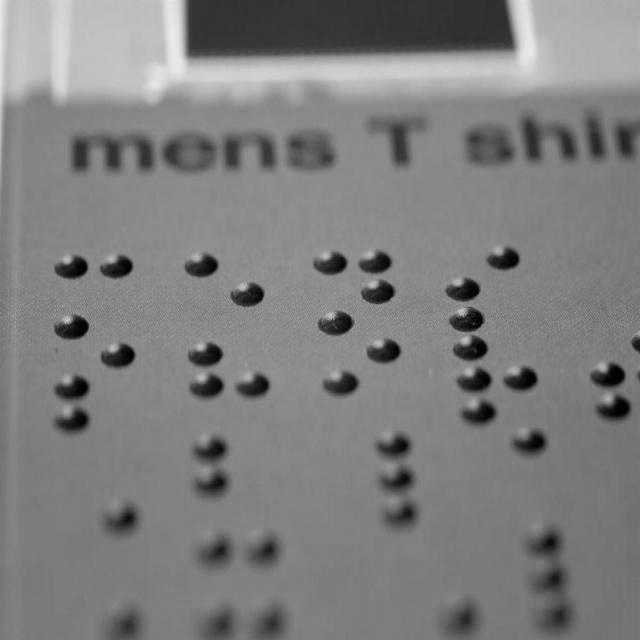braiile: (431, 226, 540, 341), (176, 229, 273, 342), (305, 234, 407, 341), (49, 238, 143, 347)
